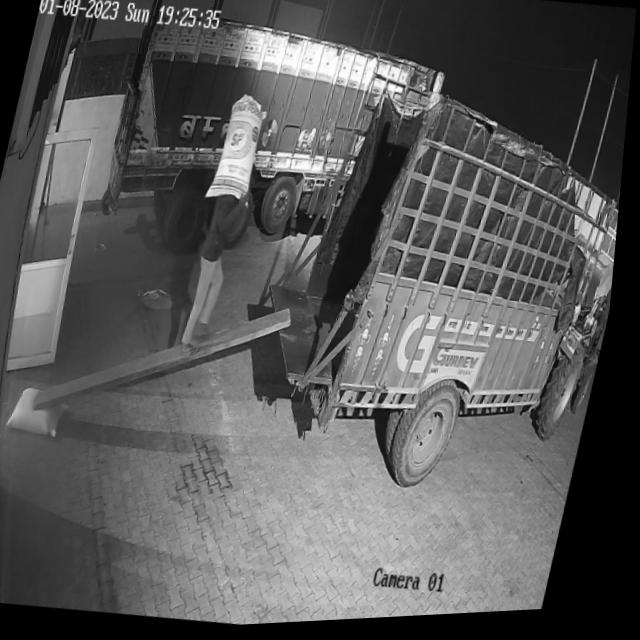sack: (208, 95, 273, 207), (11, 382, 79, 440)
